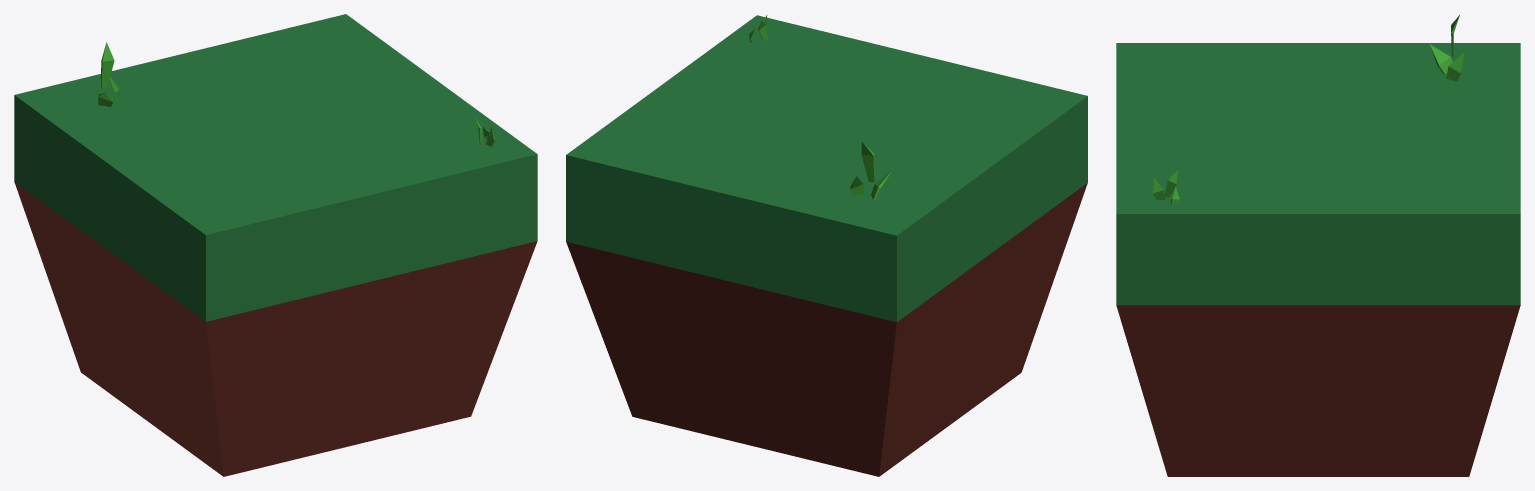
Rendered from tileground2_withgrass.fbx.
3 views of the same model, side by side, from view 1: azimuth 30°, elevation 25°; view 2: azimuth 150°, elevation 25°; view 3: azimuth 270°, elevation 25° (orthographic). The views are drawn at different scales.
Visible parts, largest first — view 1: chao2; view 2: chao2; view 3: chao2.
Part boxes in pixels (<box>): chao2: <box>14,14,537,476</box>; chao2: <box>566,14,1087,476</box>; chao2: <box>1116,15,1520,476</box>.
Size of the model in its own units: 4.65 by 4.4 by 4.65.
